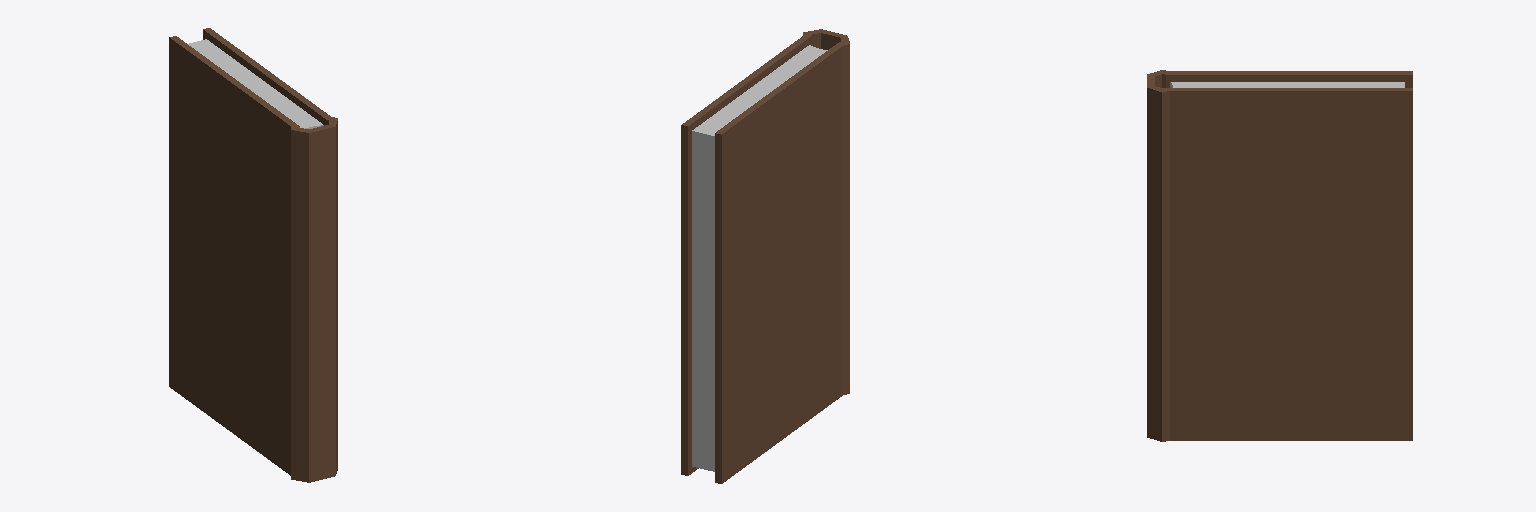
The model's file is book.obj.
3 renders of one model, left to right at view 1: azimuth 30°, elevation 25°; view 2: azimuth 150°, elevation 25°; view 3: azimuth 270°, elevation 25°, orthographic.
Parts seen in each view (by area): view 1: object_1, object_2; view 2: object_1, object_2; view 3: object_1, object_2.
Boxes of the visible parts, <box> form: object_1: <box>169,28,337,482</box>; object_2: <box>188,39,323,128</box>; object_1: <box>681,29,849,483</box>; object_2: <box>692,45,827,471</box>; object_1: <box>1147,70,1412,441</box>; object_2: <box>1170,82,1404,87</box>.
Bounding box in the file's own units: 0.1412 × 1.01 × 0.6964.